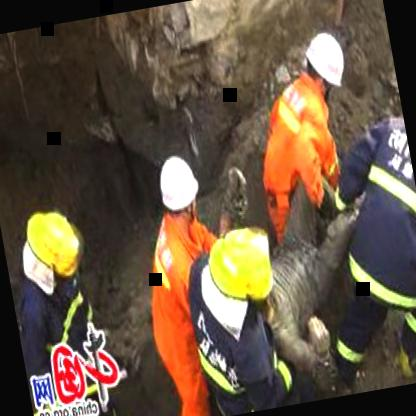helmet: (192, 222, 282, 321), (15, 203, 86, 292), (294, 22, 354, 106), (151, 148, 204, 233)
